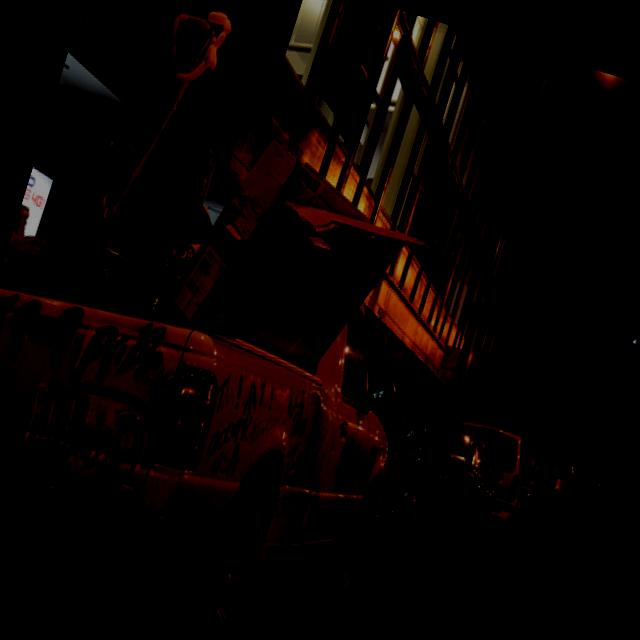Vehicle: (0, 188, 443, 640), (357, 397, 519, 576), (346, 396, 458, 573), (458, 419, 546, 546), (511, 476, 556, 535)
